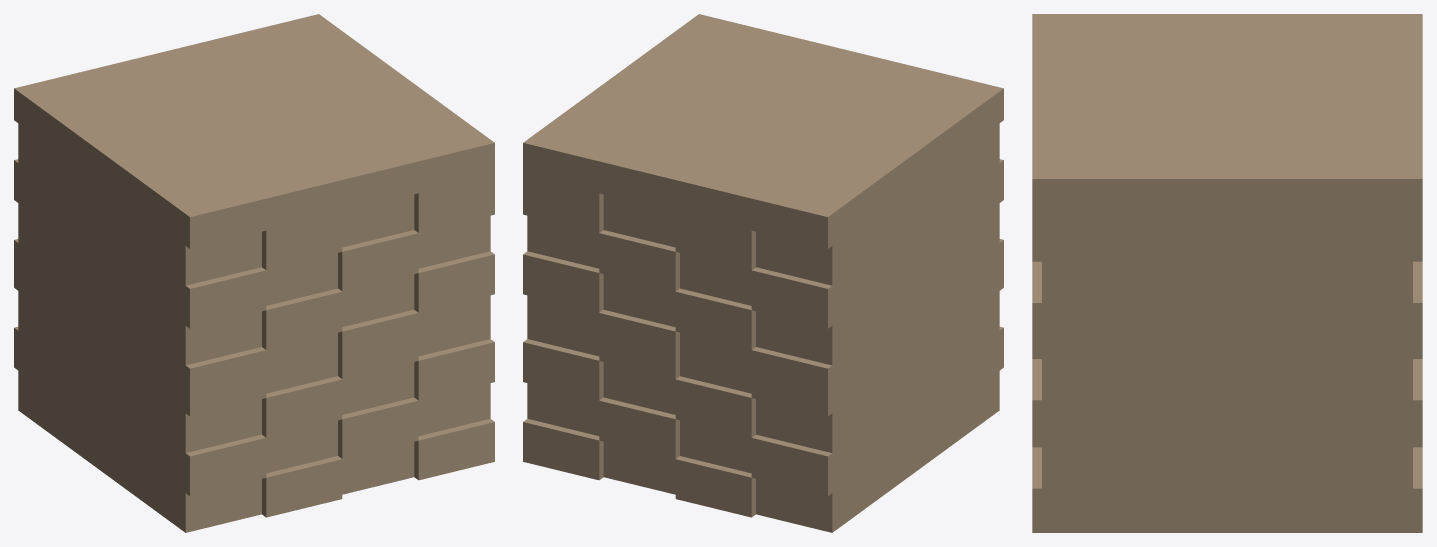
File: TileBlock.fbx
The picture shows the model from 3 angles, left to right: view 1: azimuth 30°, elevation 25°; view 2: azimuth 150°, elevation 25°; view 3: azimuth 270°, elevation 25°; orthographic projection. The views are drawn at different scales.
Visible parts, largest first — view 1: tileblock; view 2: tileblock; view 3: tileblock.
Boxes of the visible parts, x1,y1,x2,y2 form: tileblock: (14,14,494,532); tileblock: (523,14,1003,532); tileblock: (1032,14,1422,532).
Bounding box in the file's own units: 400 × 400 × 400.
